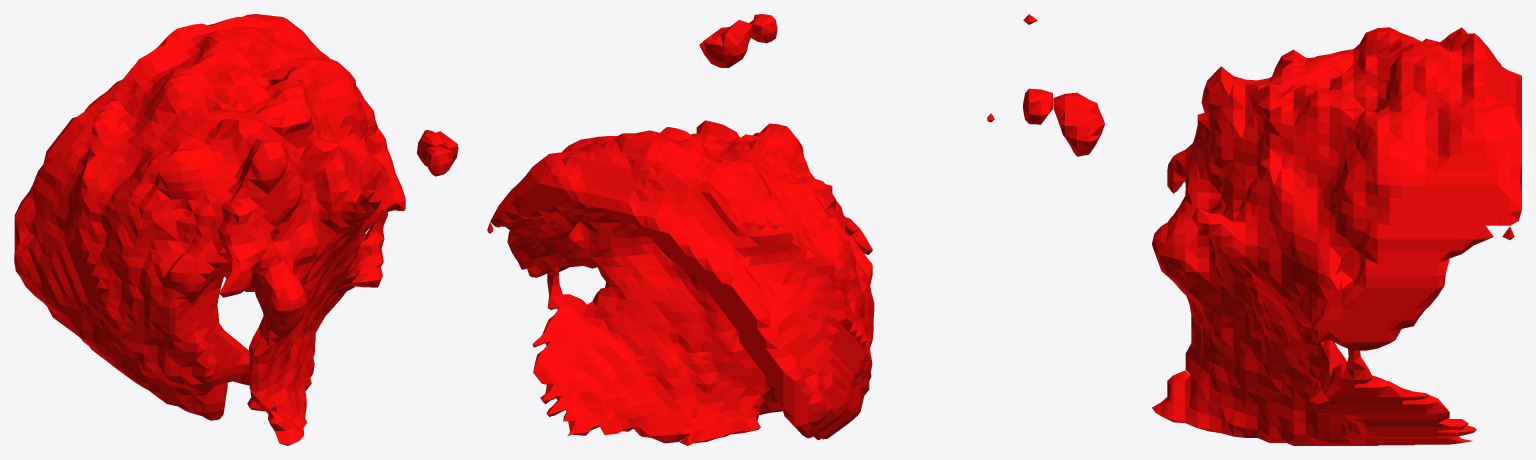
File: B939XXXX-1_valve_30.obj
The picture shows the model from 3 angles, left to right: view 1: azimuth 30°, elevation 25°; view 2: azimuth 150°, elevation 25°; view 3: azimuth 270°, elevation 25°; orthographic projection. The views are drawn at different scales.
Parts seen in each view (by area): view 1: 30_valve; view 2: 30_valve; view 3: 30_valve.
Part boxes in pixels (bbox=[...]): 30_valve: bbox=[14, 14, 458, 445]; 30_valve: bbox=[487, 14, 994, 445]; 30_valve: bbox=[1023, 14, 1521, 445].
Size of the model in its own units: 75.98 by 72.31 by 82.97.
